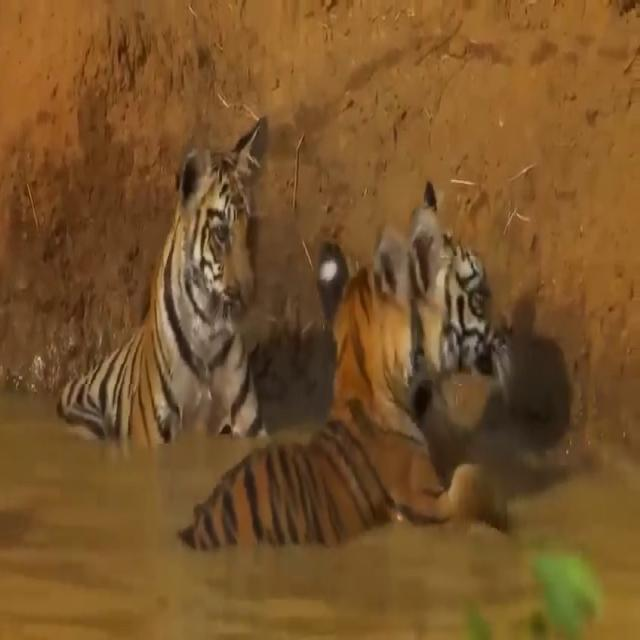tiger: (175, 218, 511, 553), (56, 113, 272, 448)
